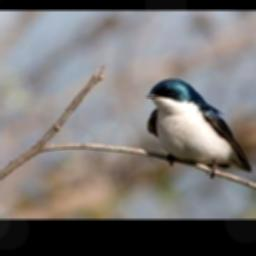Swallow: (146, 77, 253, 179)
